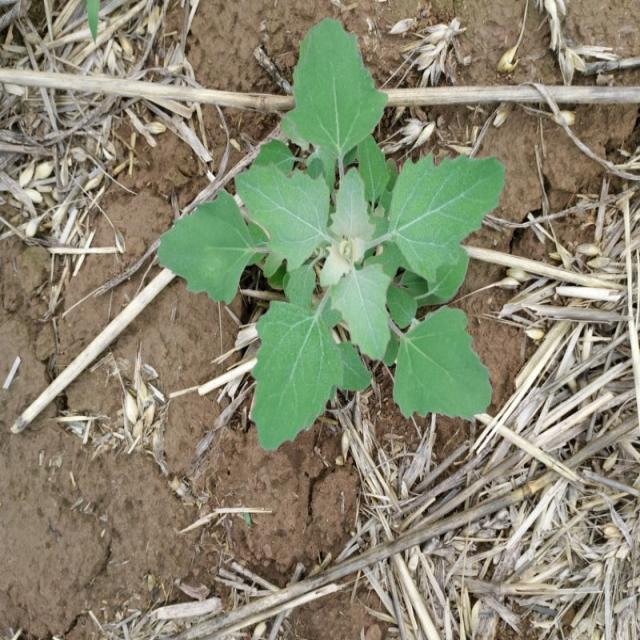goosefoots: (183, 21, 497, 427)
